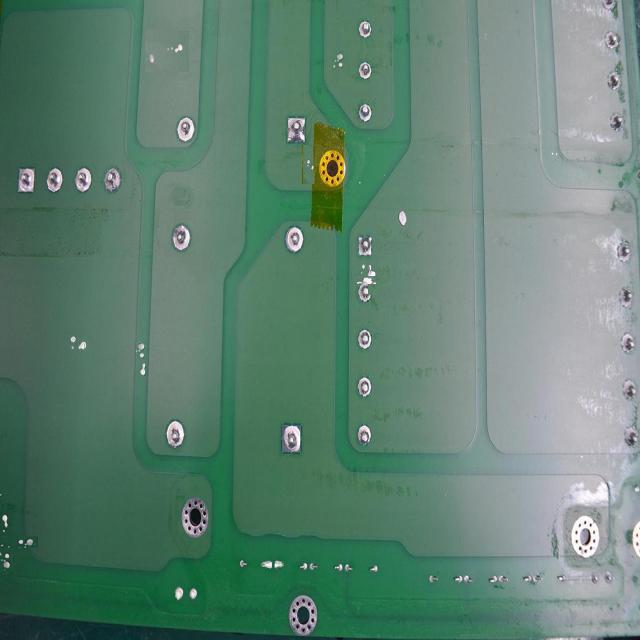spillover: (144, 29, 189, 72), (63, 330, 92, 368), (0, 522, 25, 561), (302, 145, 315, 184), (363, 270, 382, 290), (396, 207, 409, 230)
